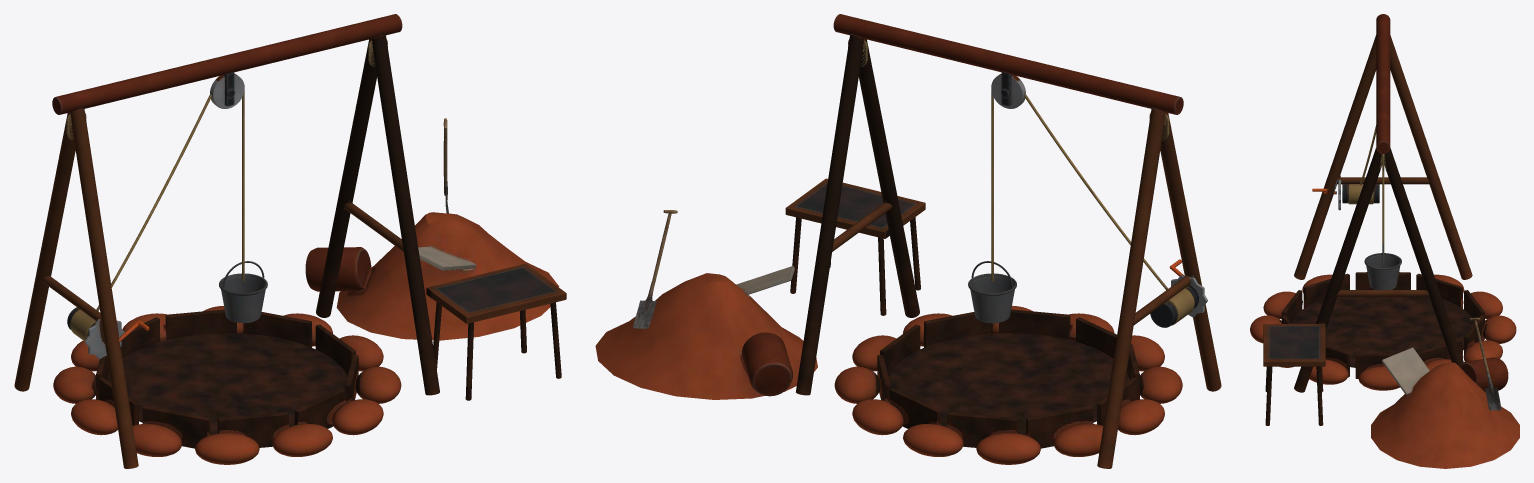
The model's file is salvage_frame.glb.
The picture shows the model from 3 angles, left to right: view 1: azimuth 30°, elevation 25°; view 2: azimuth 150°, elevation 25°; view 3: azimuth 270°, elevation 25°; orthographic projection. The views are drawn at different scales.
Parts seen in each view (by area): view 1: salvage_frame; view 2: salvage_frame; view 3: salvage_frame.
Part boxes in pixels (x1=…): salvage_frame: x1=14, y1=14, x2=566, y2=468; salvage_frame: x1=595, y1=14, x2=1221, y2=468; salvage_frame: x1=1250, y1=14, x2=1519, y2=468.
Bounding box in the file's own units: 5.3 × 3.25 × 3.04.
Materials: 1 (1 with a texture image).
